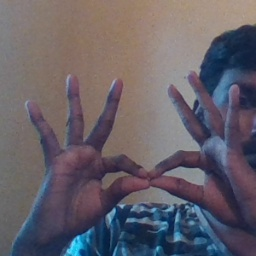B: (80, 113, 222, 223)
